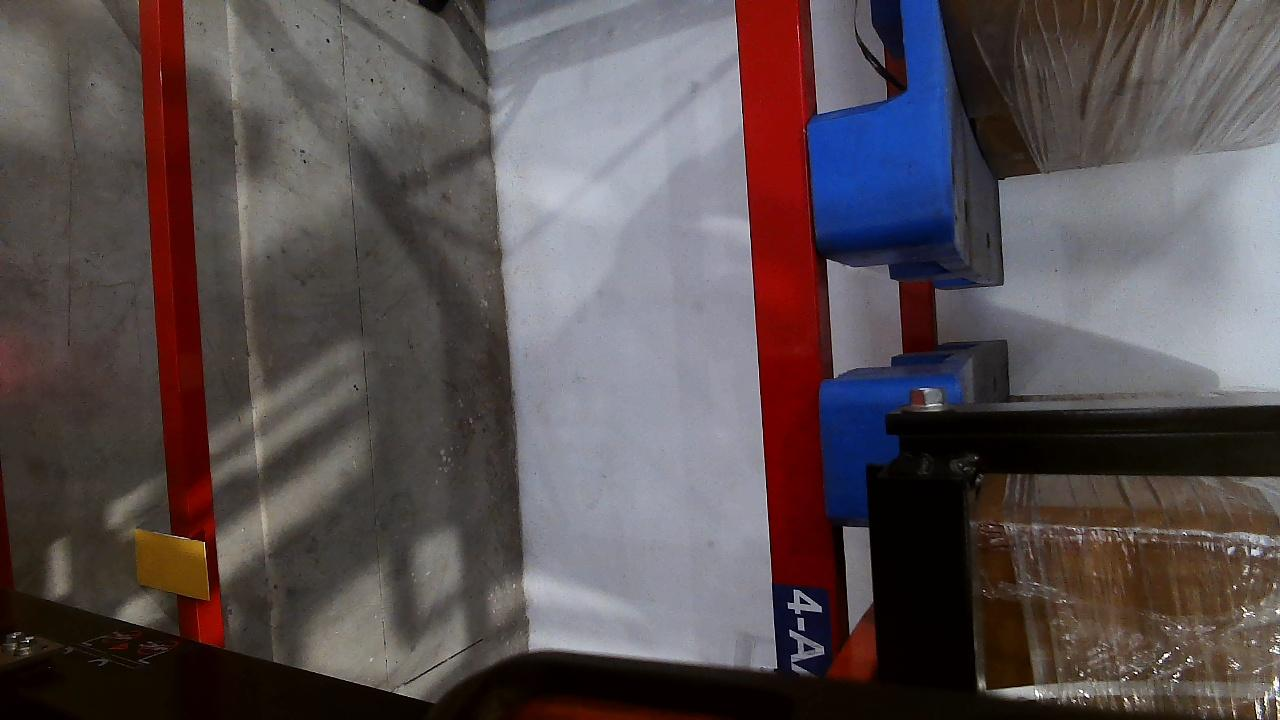h_rack: (734, 3, 833, 681), (138, 0, 222, 645)
orange_strip: (133, 531, 209, 602)
small_pallet: (797, 0, 958, 242)
